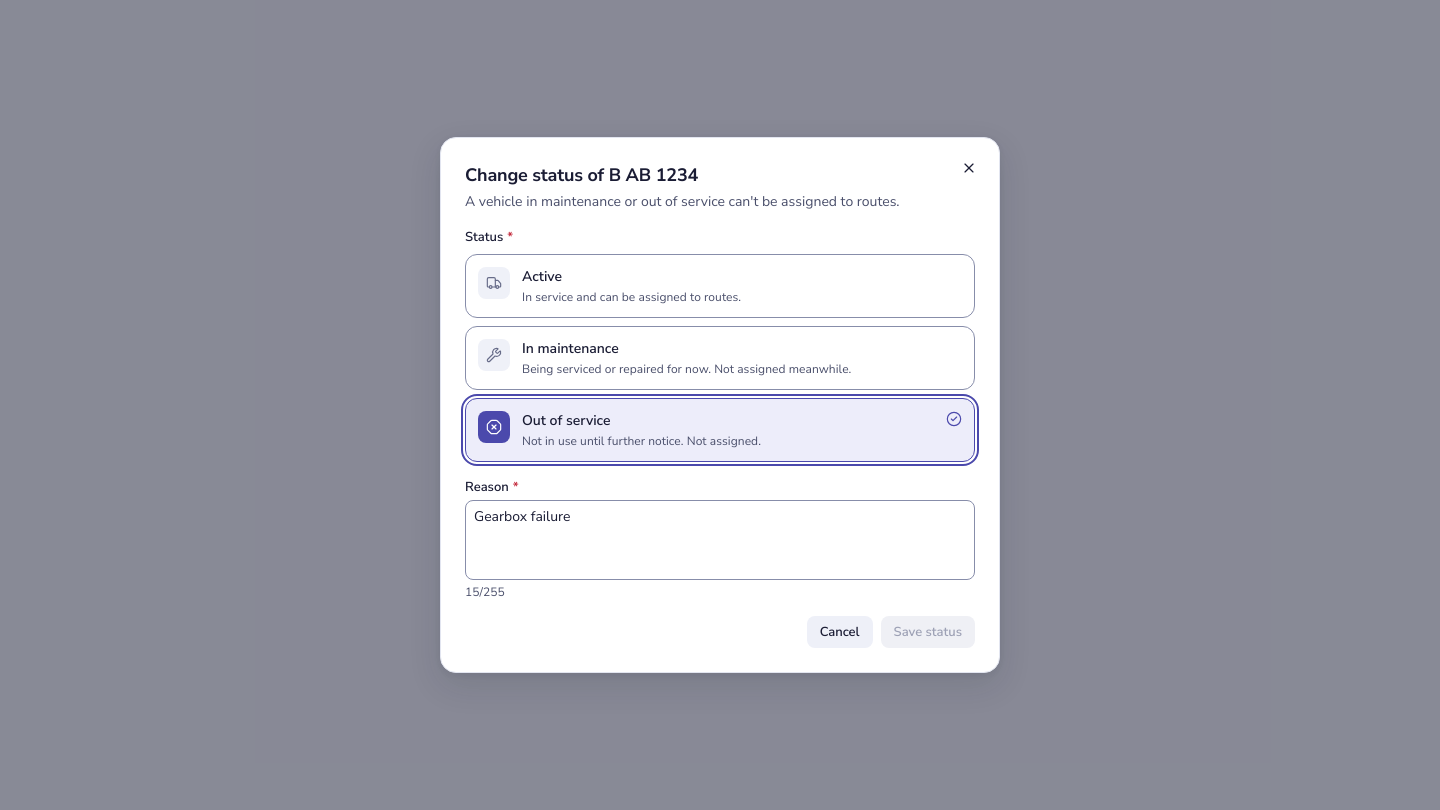
VehicleStatusDialog › clears the reason when the vehicle goes back to active
Click the radio button labelled "Active In service and can be assigned to routes." at (720, 286), box [465,254,975,318]
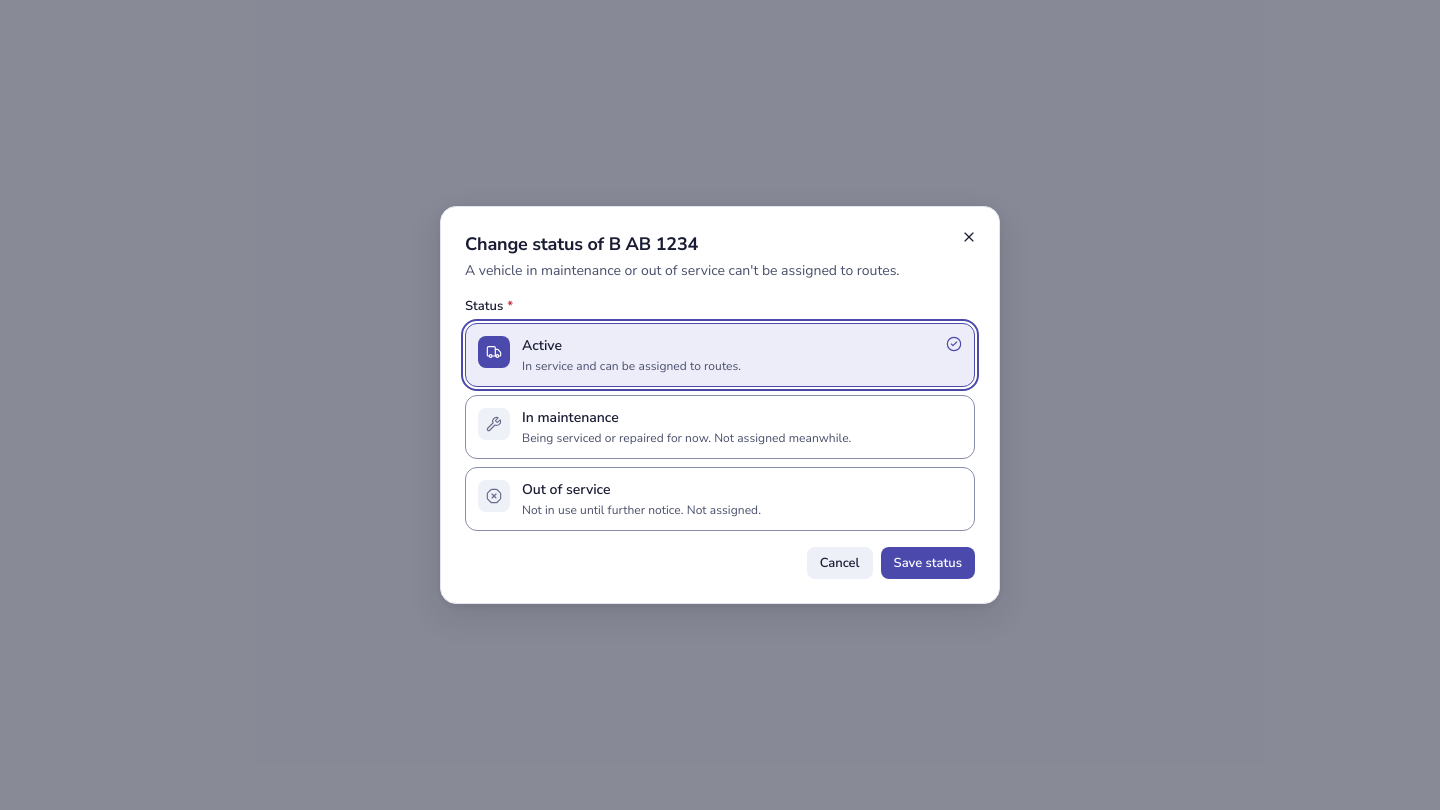
Click the button "Save status" at (928, 563), box [881,547,975,579]
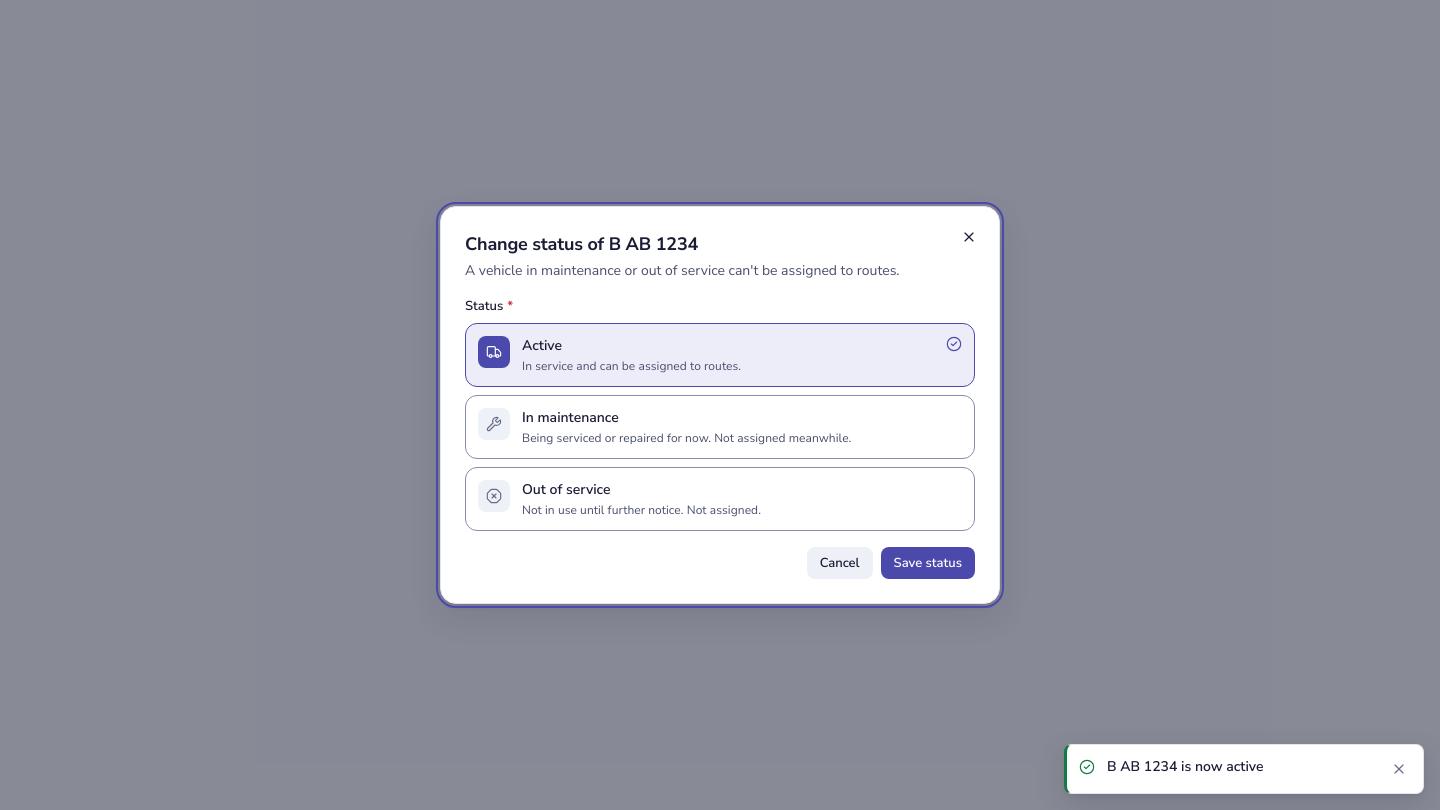
Expected: the text "B AB 1234 is now active" is shown, [1107,757,1264,776]
